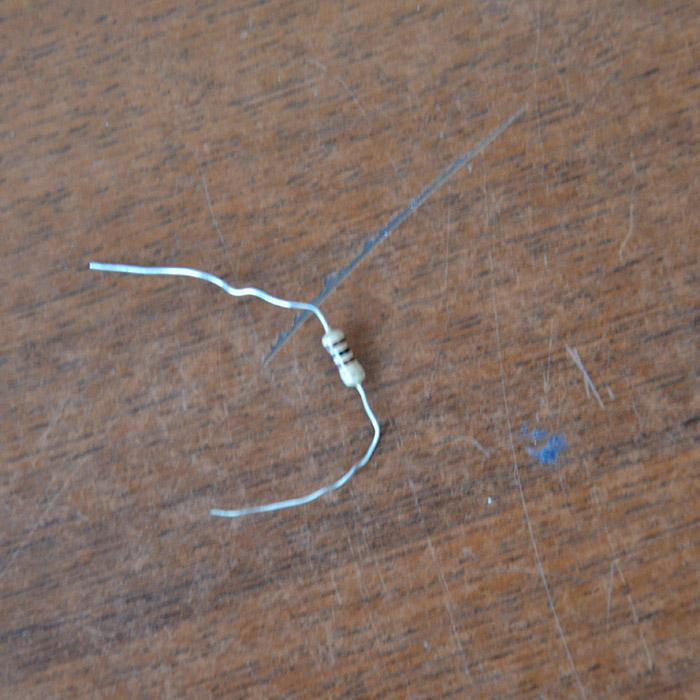resistor: (320, 326, 364, 388)
